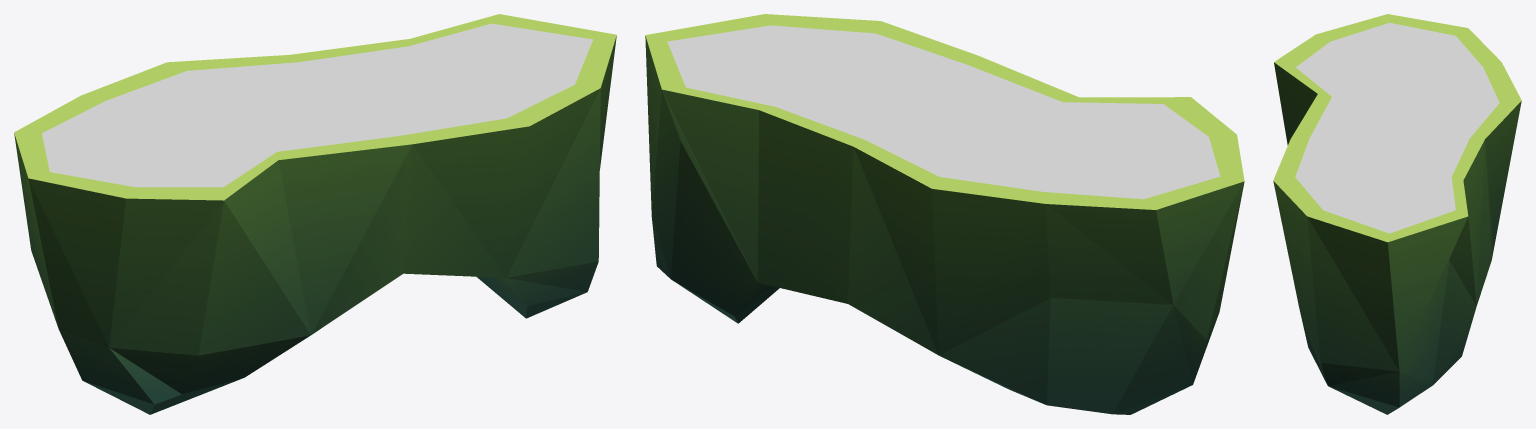
Rendered from MOD_Midden.fbx.
3 views of the same model, side by side, from view 1: azimuth 30°, elevation 25°; view 2: azimuth 150°, elevation 25°; view 3: azimuth 270°, elevation 25° (orthographic). The views are drawn at different scales.
Parts seen in each view (by area): view 1: MOD_PlatformV2_laag; view 2: MOD_PlatformV2_laag; view 3: MOD_PlatformV2_laag.
Part boxes in pixels (bbox=[...]): MOD_PlatformV2_laag: bbox=[14, 14, 616, 414]; MOD_PlatformV2_laag: bbox=[645, 14, 1244, 414]; MOD_PlatformV2_laag: bbox=[1273, 14, 1521, 414].
Bounding box in the file's own units: 4.74 × 2.01 × 2.18.
Materials: 3 (1 with a texture image).
